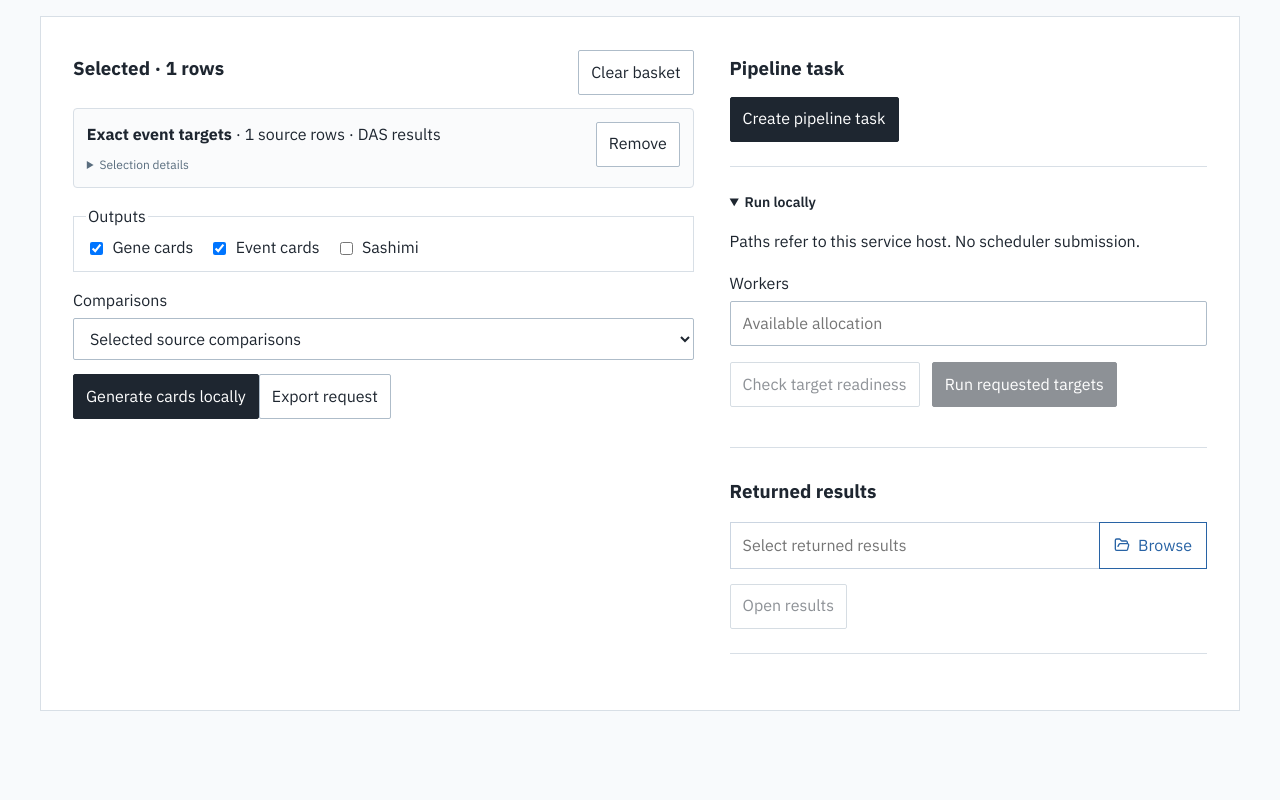
creates a pipeline task directly from selected rows and clears stale tasks after changing outputs
This screenshot has width=1280, height=800.
Click the button with aria-label "Create Nextflow target task".
click(814, 119)  # box x1=730 y1=96 x2=898 y2=142
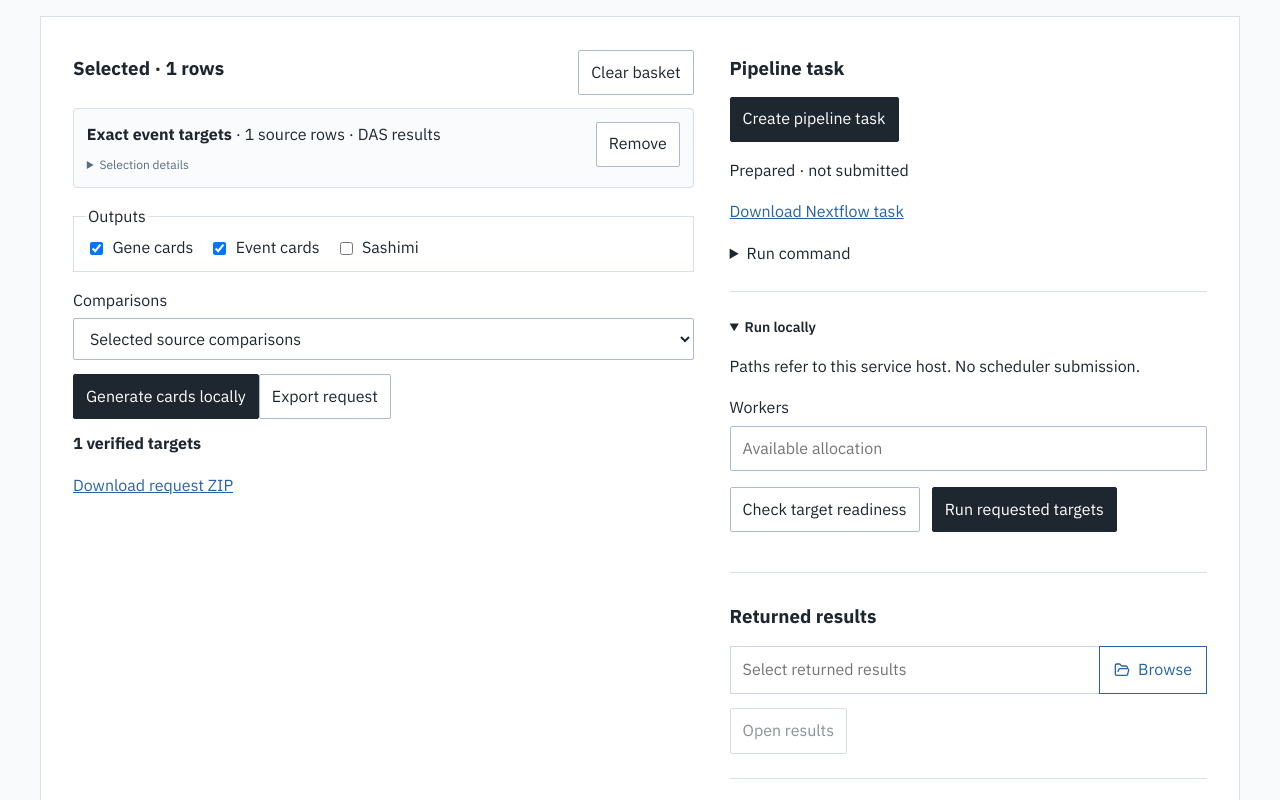
Expected: the text "Prepared · not submitted" is shown, x1=730 y1=160 x2=909 y2=180
Click the checkbox labelled "Sashimi".
click(346, 248)  # box x1=340 y1=242 x2=353 y2=255
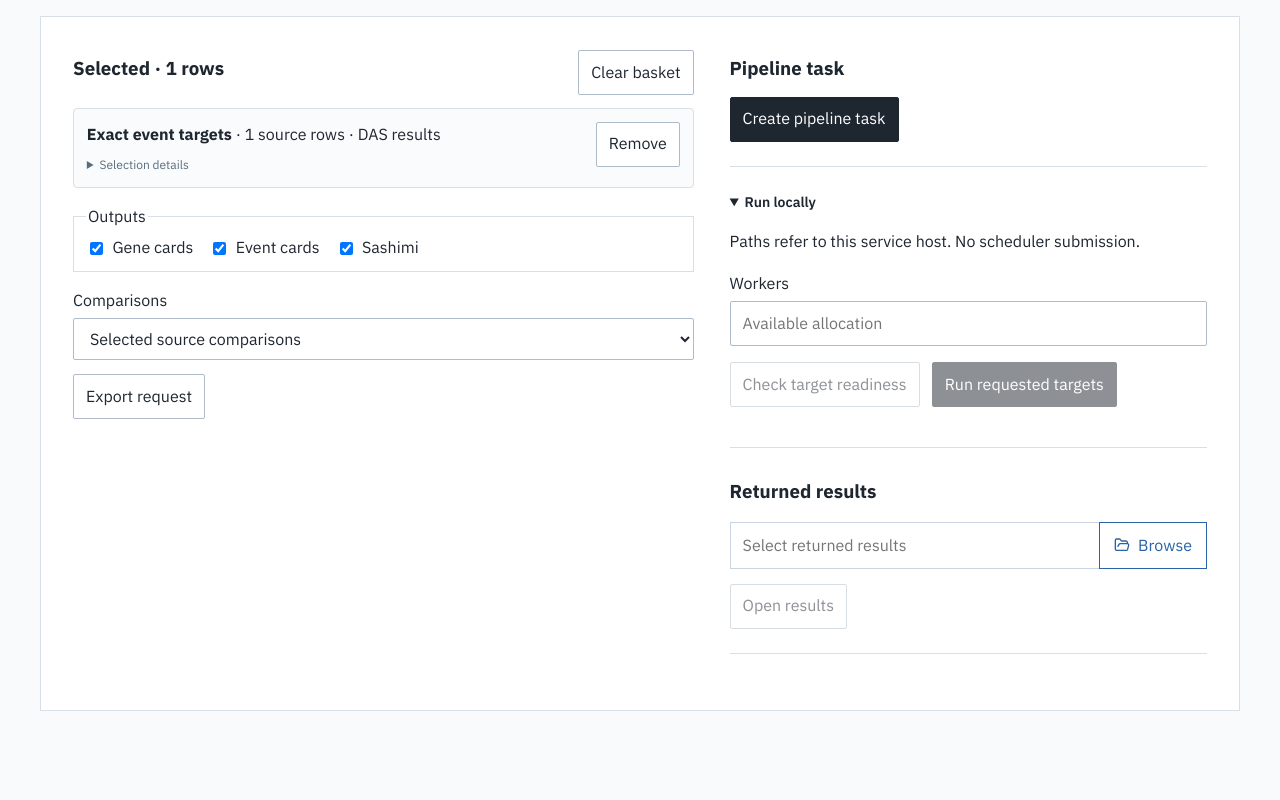
Expected: the link "Download Nextflow task" is gone
